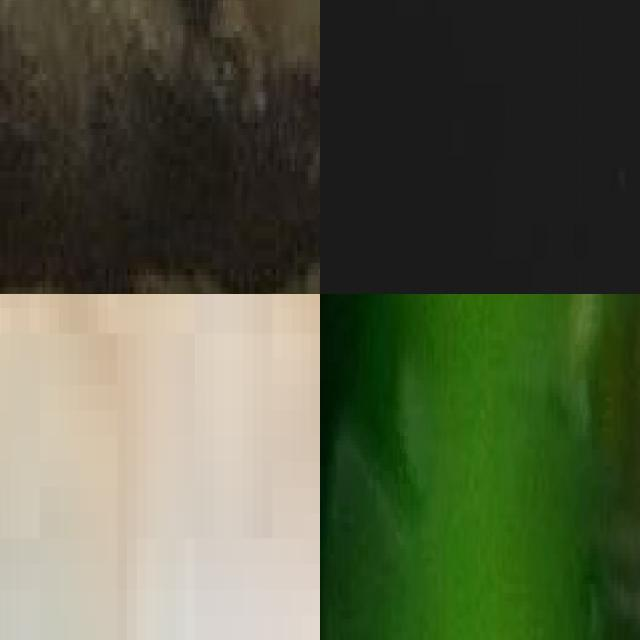fish: (0, 294, 320, 640), (0, 0, 320, 294)
